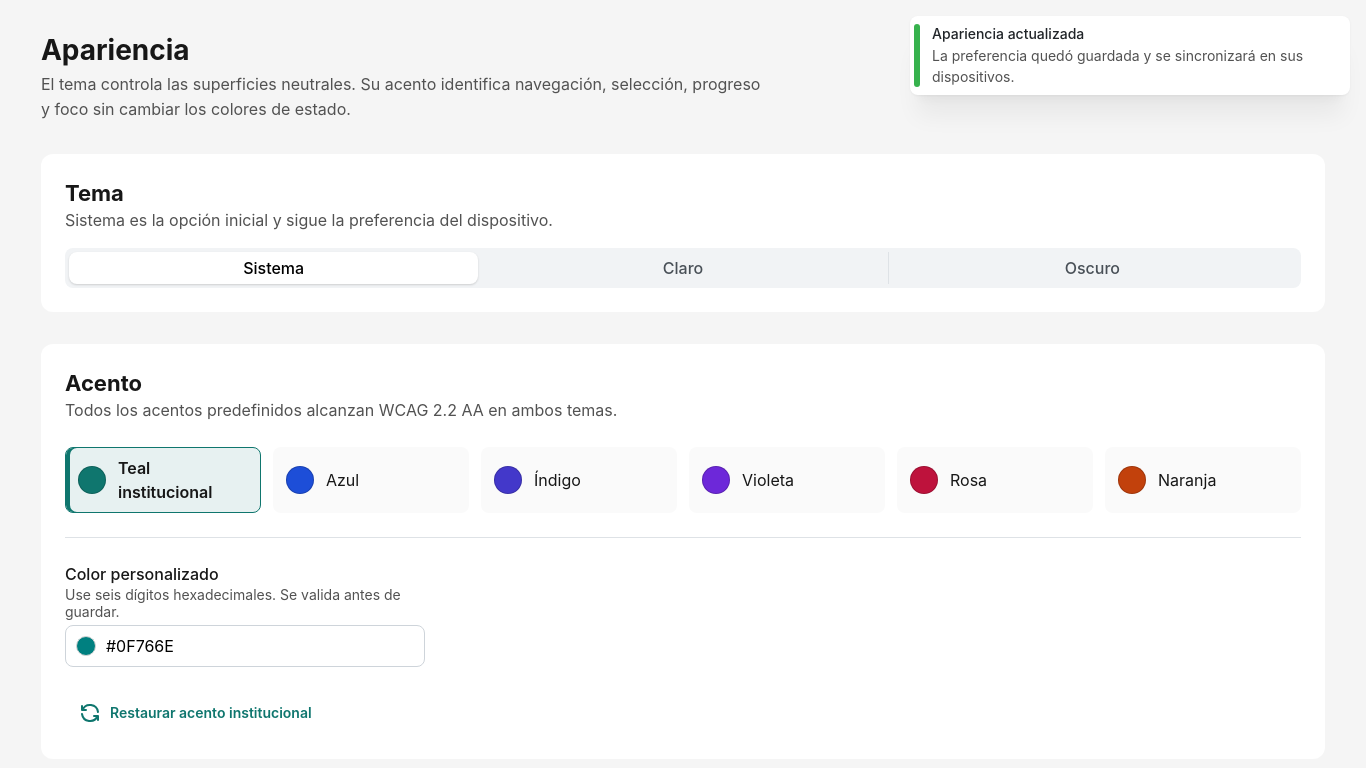
Scenario: AppearancePage › muestra la validación de un personalizado con contraste insuficiente
The width and height of the screenshot is (1366, 768).
Clear the field labelled "Color personalizado" at (245, 646), box [65, 625, 425, 667]
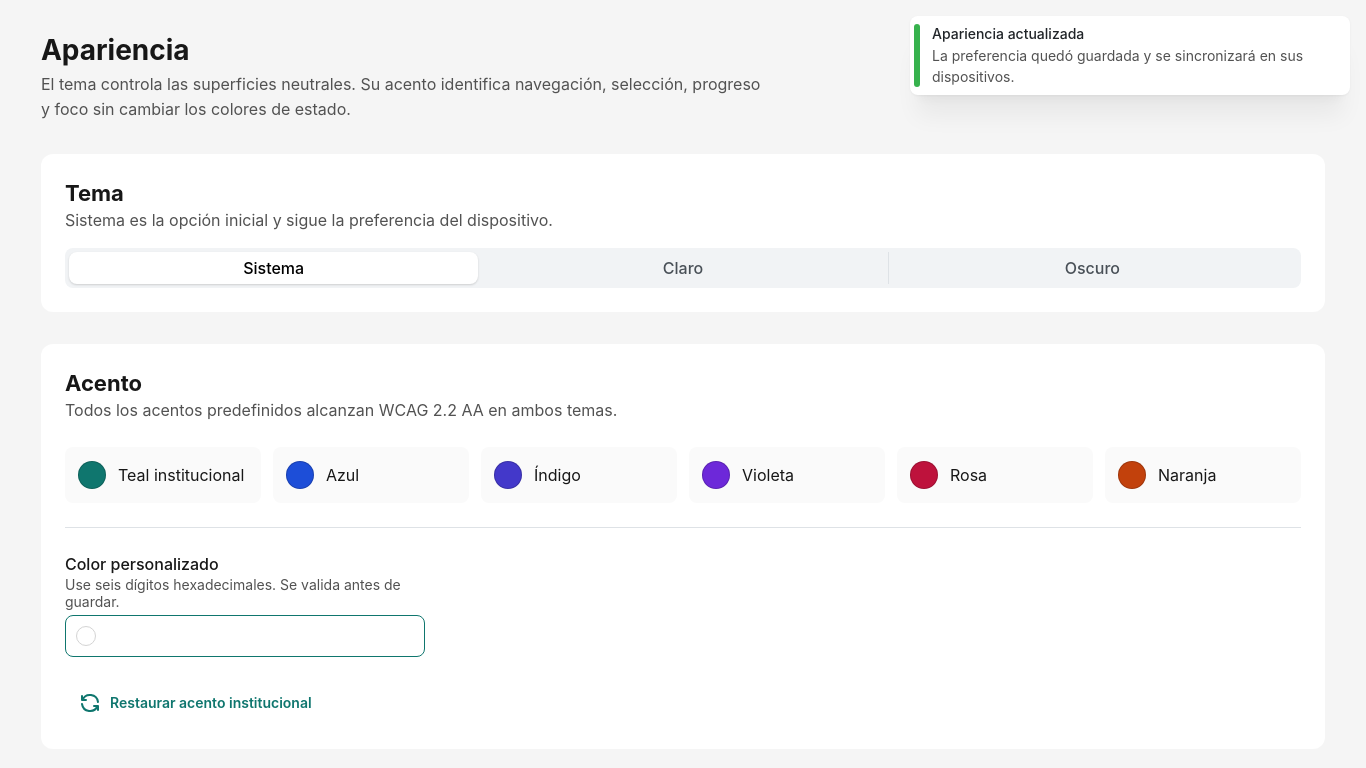
Type "#FFFFFF" into the field labelled "Color personalizado" at (245, 636), box [65, 615, 425, 657]
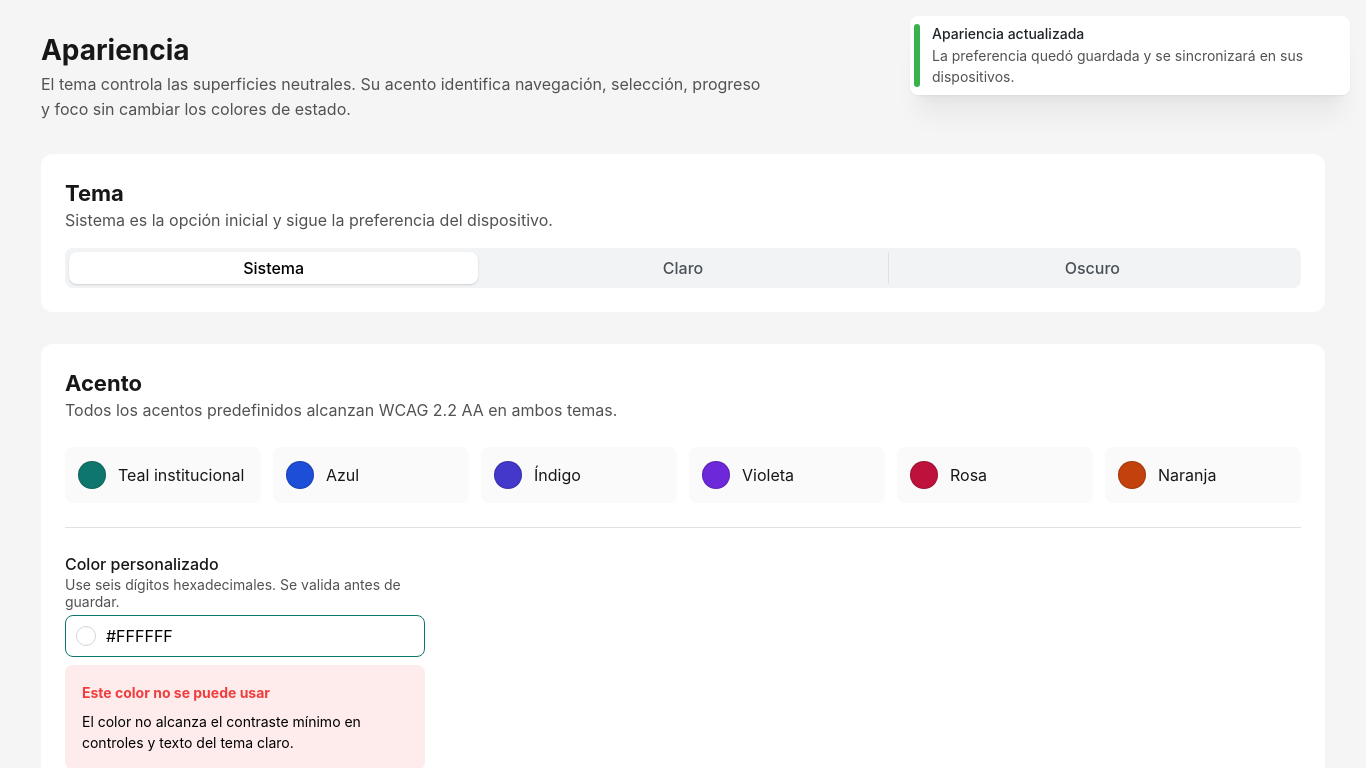
Expected: the button "Guardar apariencia" is disabled, [1132, 32, 1325, 76]
Expected: the text "contraste mínimo" is shown, [82, 713, 361, 751]
